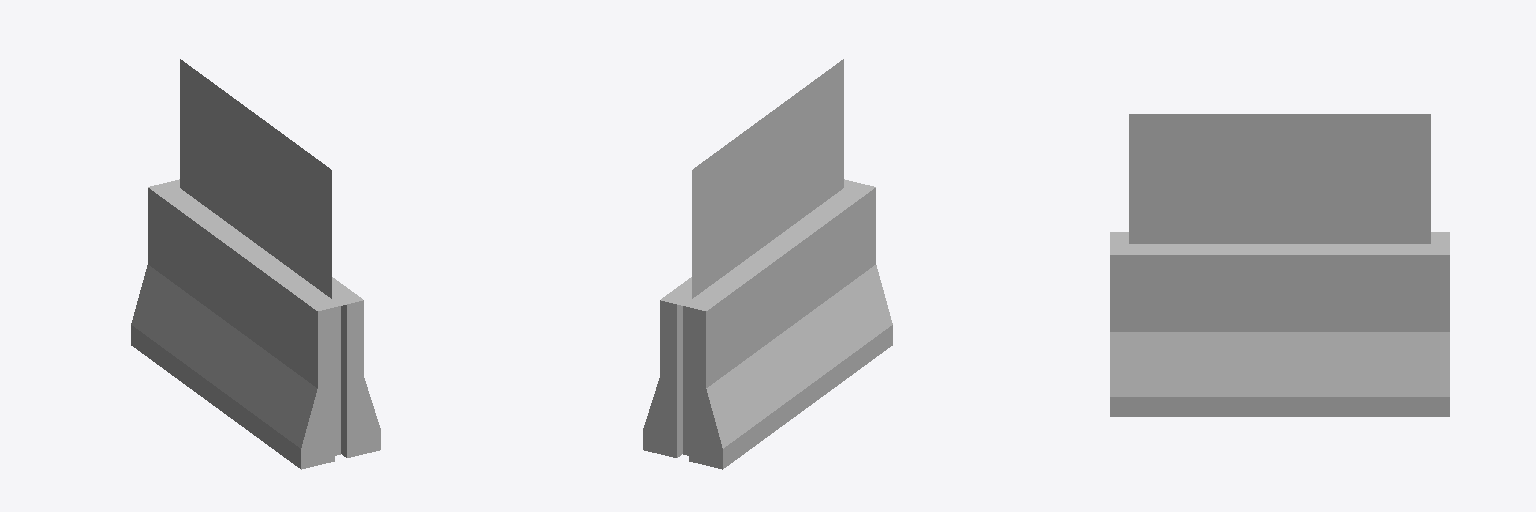
File: barrier.obj
The picture shows the model from 3 angles: view 1: azimuth 30°, elevation 25°; view 2: azimuth 150°, elevation 25°; view 3: azimuth 270°, elevation 25°; orthographic projection.
Parts seen in each view (by area): view 1: Cube; view 2: Cube; view 3: Cube.
Part boxes in pixels (bbox=[...]): Cube: bbox=[131, 59, 380, 469]; Cube: bbox=[643, 59, 892, 469]; Cube: bbox=[1110, 114, 1449, 416].
Size of the model in its own units: 1.62 by 5.52 by 6.